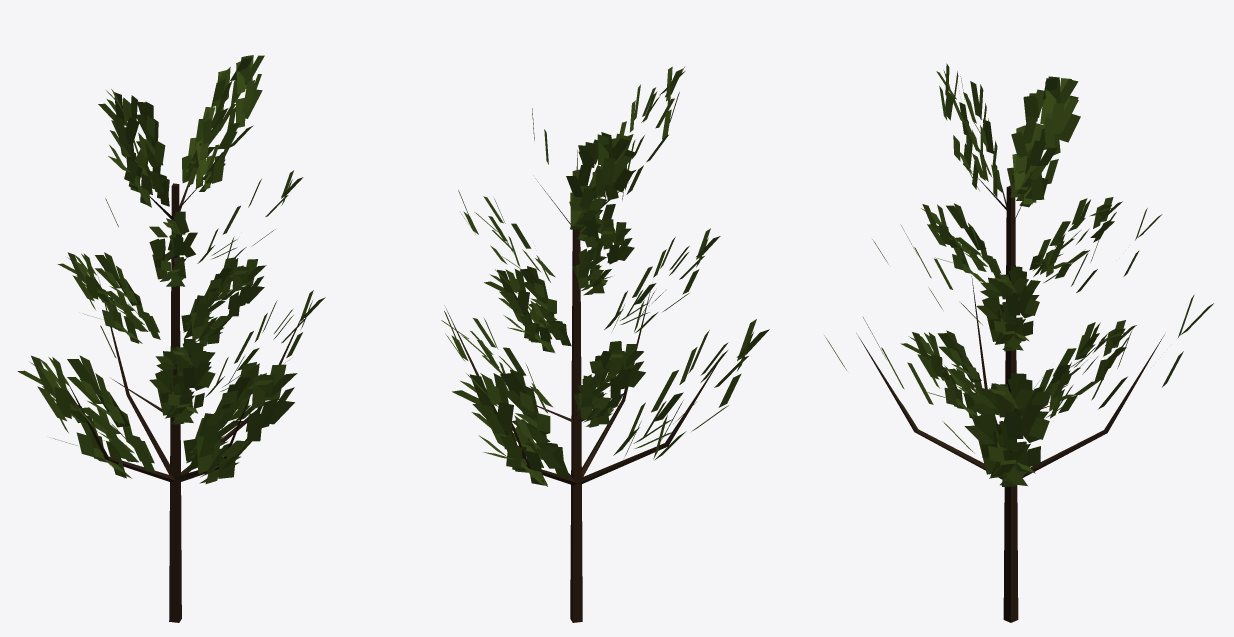
The model's file is tree-zsky.glb.
The picture shows the model from 3 angles, left to right: view 1: azimuth 30°, elevation 25°; view 2: azimuth 150°, elevation 25°; view 3: azimuth 270°, elevation 25°; orthographic projection.
Visible parts, largest first — view 1: Tree1; view 2: Tree1; view 3: Tree1.
Part boxes in pixels (x1=…): Tree1: x1=17, y1=55, x2=325, y2=622; Tree1: x1=441, y1=66, x2=769, y2=622; Tree1: x1=824, y1=63, x2=1213, y2=622.
Size of the model in its own units: 9.45 by 14.64 by 9.57.
